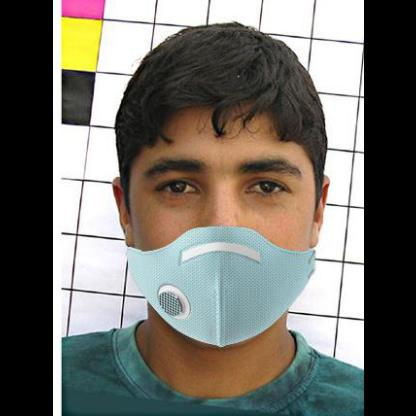FFP Mask: (118, 109, 328, 348)
